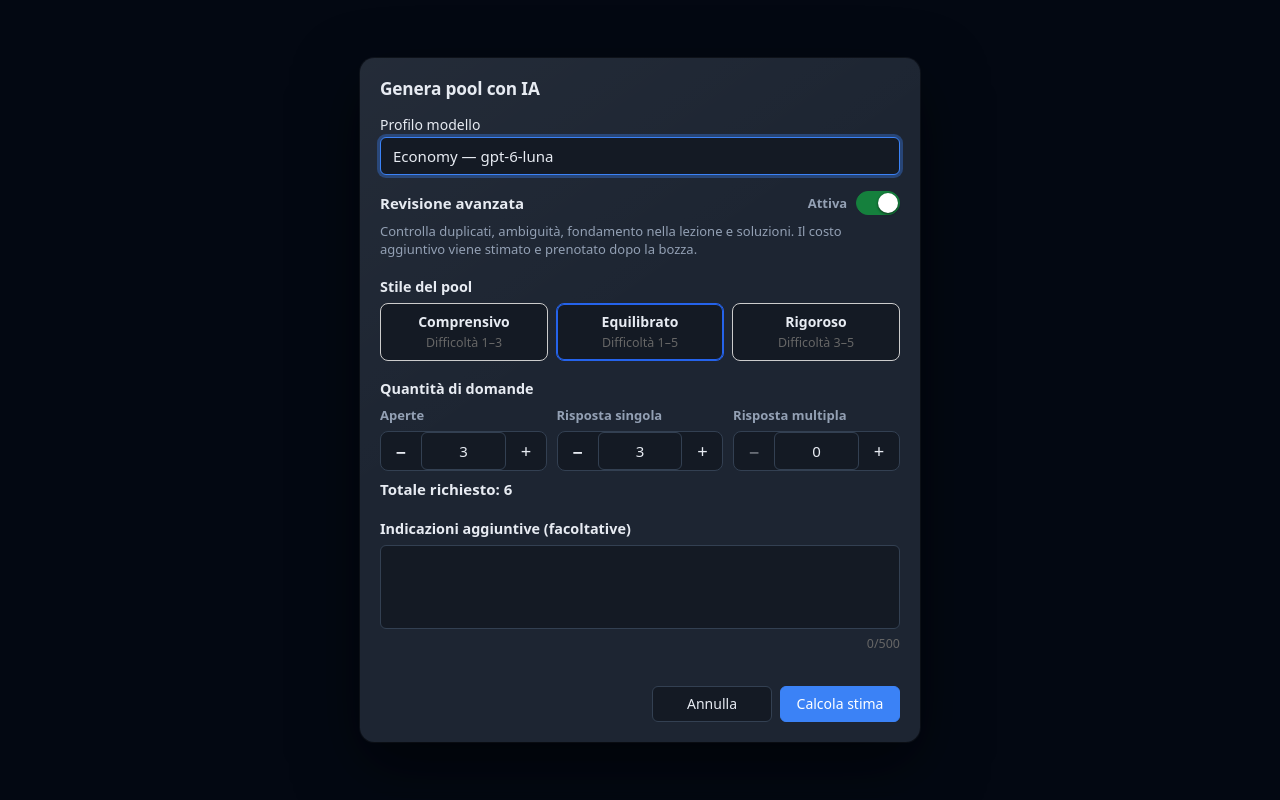
Test case: AiPoolGenerationDialog › shows estimate and the conservative reservation cap, no cost yet
Click the button "Calcola stima". click: (840, 704)
box: 780,686 -> 900,722
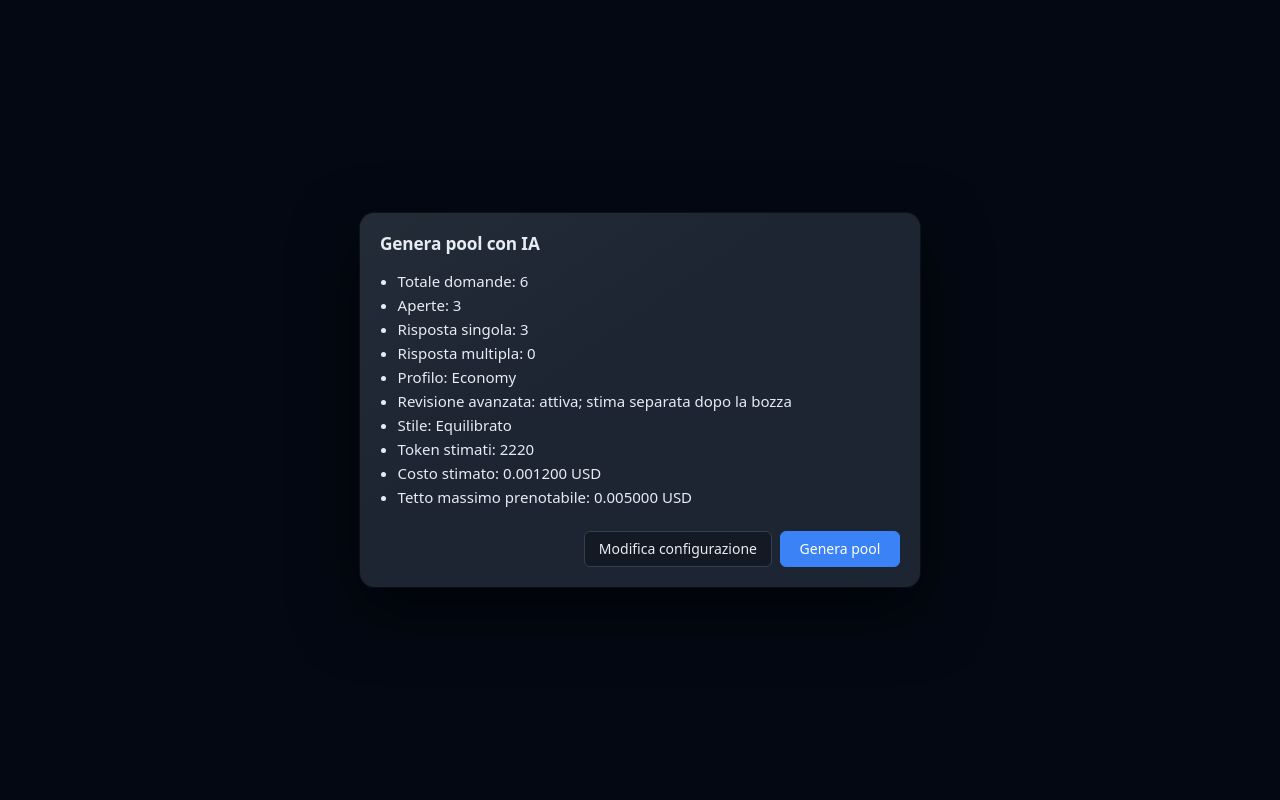
Now the list item "Costo stimato: 0.001200 USD" is shown, box 398,463 -> 601,483
Now the list item "Tetto massimo prenotabile: 0.005000 USD" is shown, box 398,487 -> 692,507
